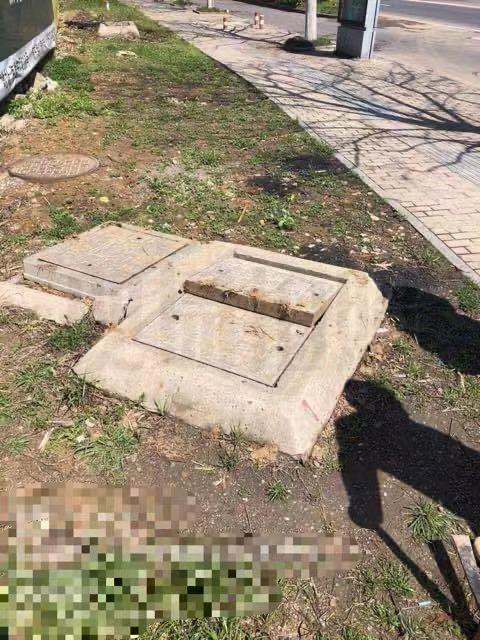wellcover: (84, 233, 387, 459), (25, 203, 209, 297), (9, 137, 101, 186)
